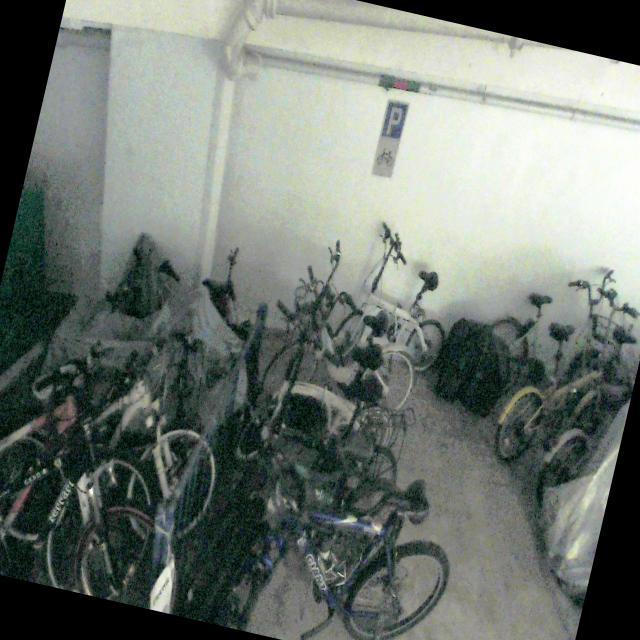bike: (0, 290, 247, 586), (187, 432, 469, 640), (0, 316, 190, 605), (220, 350, 416, 553), (232, 296, 416, 492), (258, 230, 440, 426), (469, 245, 640, 438), (489, 269, 640, 483), (329, 216, 468, 380)
